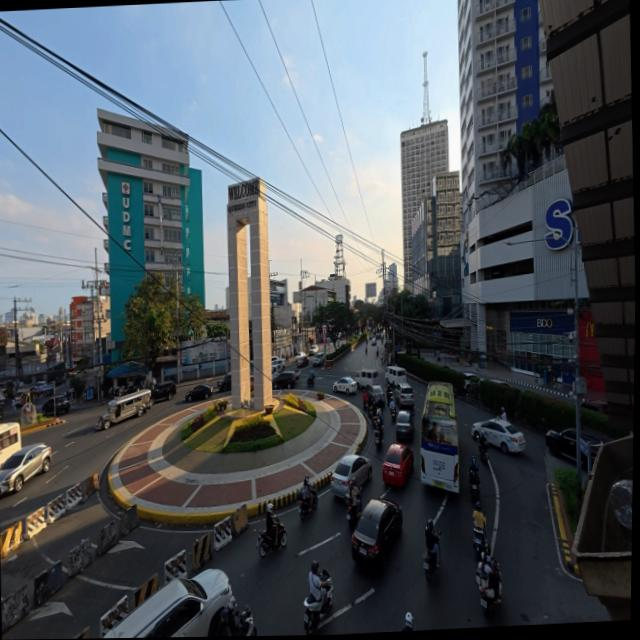Jeepneys: (95, 389, 151, 429)
bus: (421, 381, 460, 492), (0, 423, 21, 466)
car: (104, 569, 231, 637), (352, 499, 402, 568), (0, 443, 51, 495), (472, 418, 525, 453), (331, 454, 372, 497), (383, 444, 414, 486), (546, 428, 576, 460), (396, 410, 415, 440), (150, 380, 177, 401), (396, 382, 414, 409), (185, 384, 212, 401), (273, 371, 296, 389), (333, 376, 356, 394), (582, 400, 608, 414), (369, 385, 385, 407), (464, 373, 482, 389), (217, 373, 231, 393), (57, 395, 70, 415), (489, 379, 512, 387), (272, 359, 286, 372), (297, 354, 309, 368), (313, 352, 324, 366), (34, 380, 47, 390), (291, 369, 301, 382), (54, 377, 65, 386), (310, 345, 318, 356), (297, 352, 307, 359), (250, 373, 254, 390), (371, 337, 377, 346), (272, 356, 279, 361), (337, 333, 341, 340)
motorcycle: (304, 570, 332, 634), (476, 569, 495, 618), (298, 491, 318, 520), (345, 494, 360, 531), (239, 606, 257, 635), (257, 530, 276, 557), (474, 527, 485, 559), (469, 470, 481, 499), (478, 443, 488, 465), (375, 428, 383, 449), (306, 375, 315, 387), (391, 408, 396, 421), (438, 531, 441, 545), (377, 347, 379, 356), (366, 347, 368, 355)
vans: (385, 366, 406, 388), (355, 369, 378, 389)
